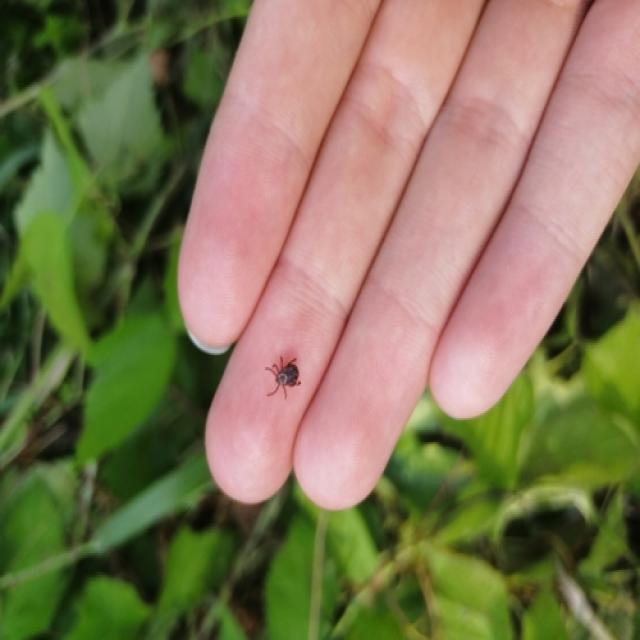Dermacentor Reticulatus-F: (269, 355, 302, 394)
